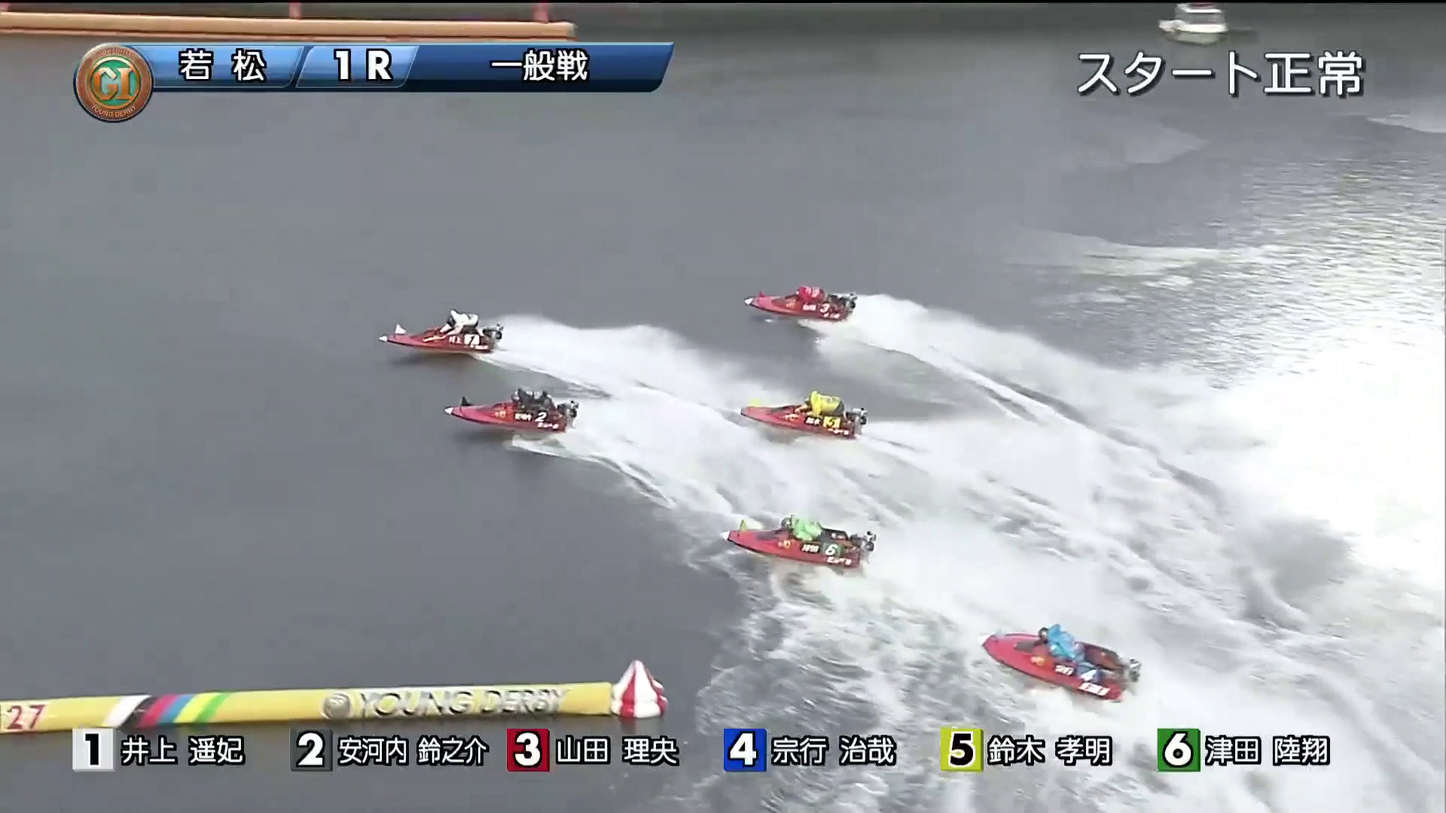１号艇: (391, 276, 462, 329)
２号艇: (425, 370, 554, 431)
３号艇: (764, 257, 862, 313)
４号艇: (740, 497, 873, 562)
５号艇: (1009, 632, 1133, 687)
６号艇: (741, 357, 841, 437)
